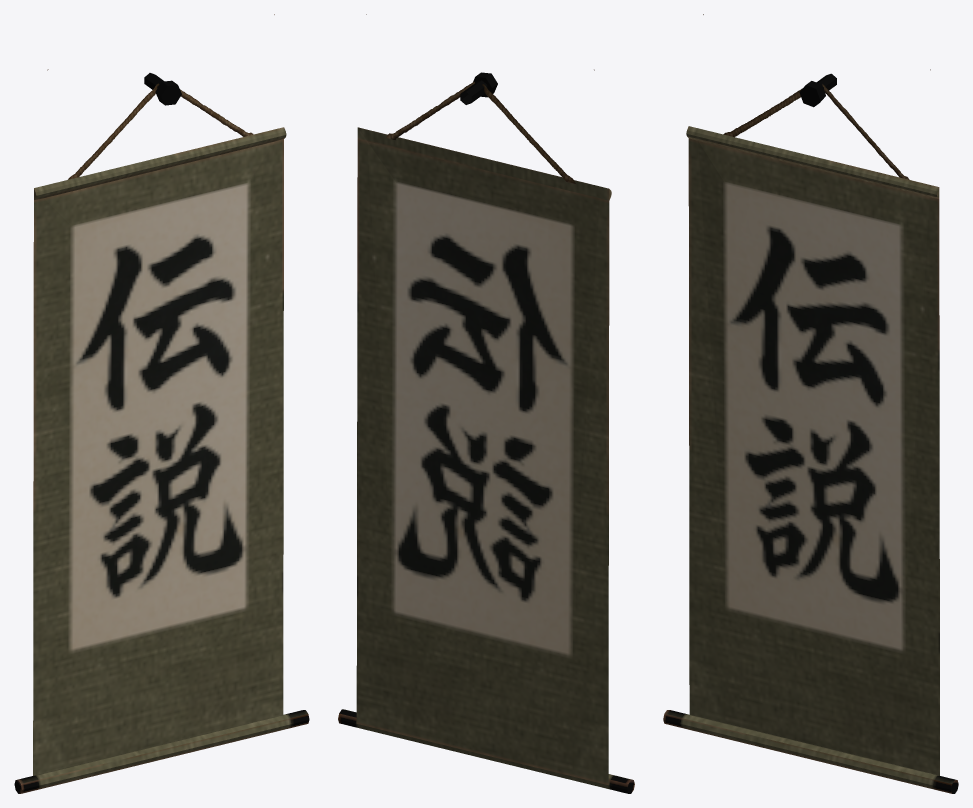
Rendered from Scroll.fbx.
3 renders of one model, left to right at view 1: azimuth 30°, elevation 25°; view 2: azimuth 150°, elevation 25°; view 3: azimuth 330°, elevation 25°, orthographic.
Parts seen in each view (by area): view 1: Scrolling; view 2: Scrolling; view 3: Scrolling.
Boxes of the visible parts, x1,y1,x2,y2 form: Scrolling: (14,14,309,793); Scrolling: (338,14,634,793); Scrolling: (663,14,958,793).
Size of the model in its own units: 116 by 274 by 15.02.
